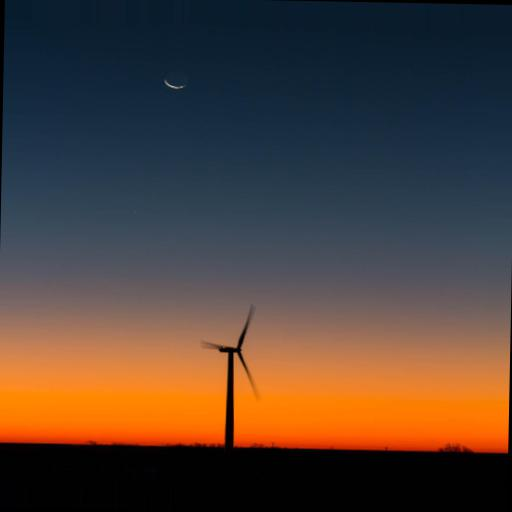wind turbine: (199, 303, 260, 443)
